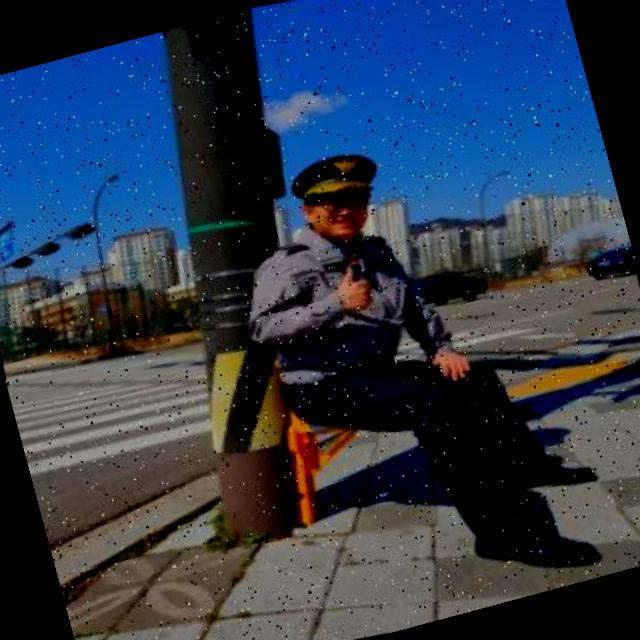Person: (206, 106, 635, 636)
